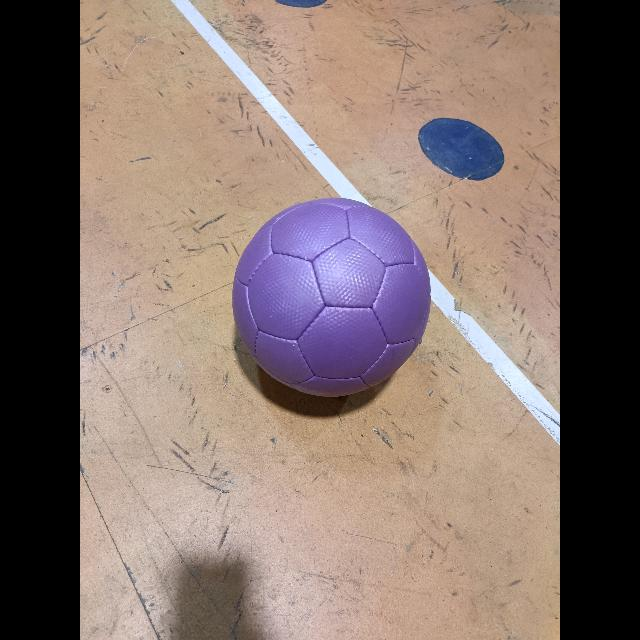P: (232, 198, 430, 396)
